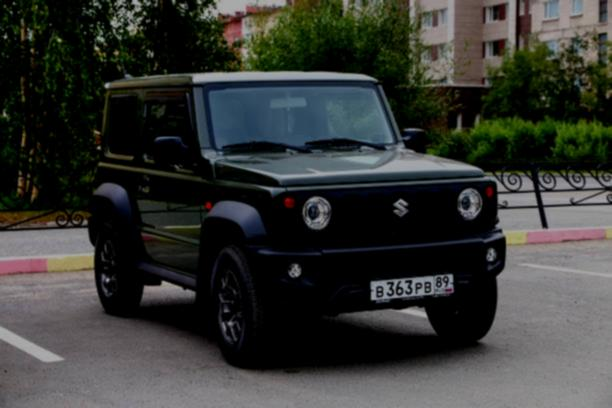suzuki: (388, 196, 414, 224)
